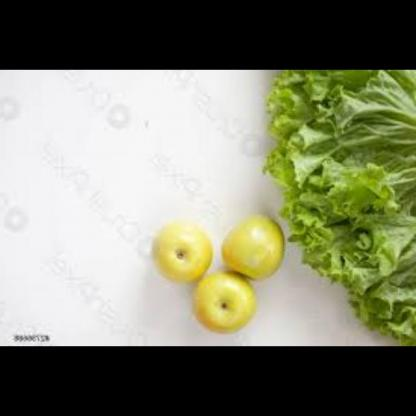salad: (265, 69, 416, 346)
tomato: (142, 214, 289, 336)
